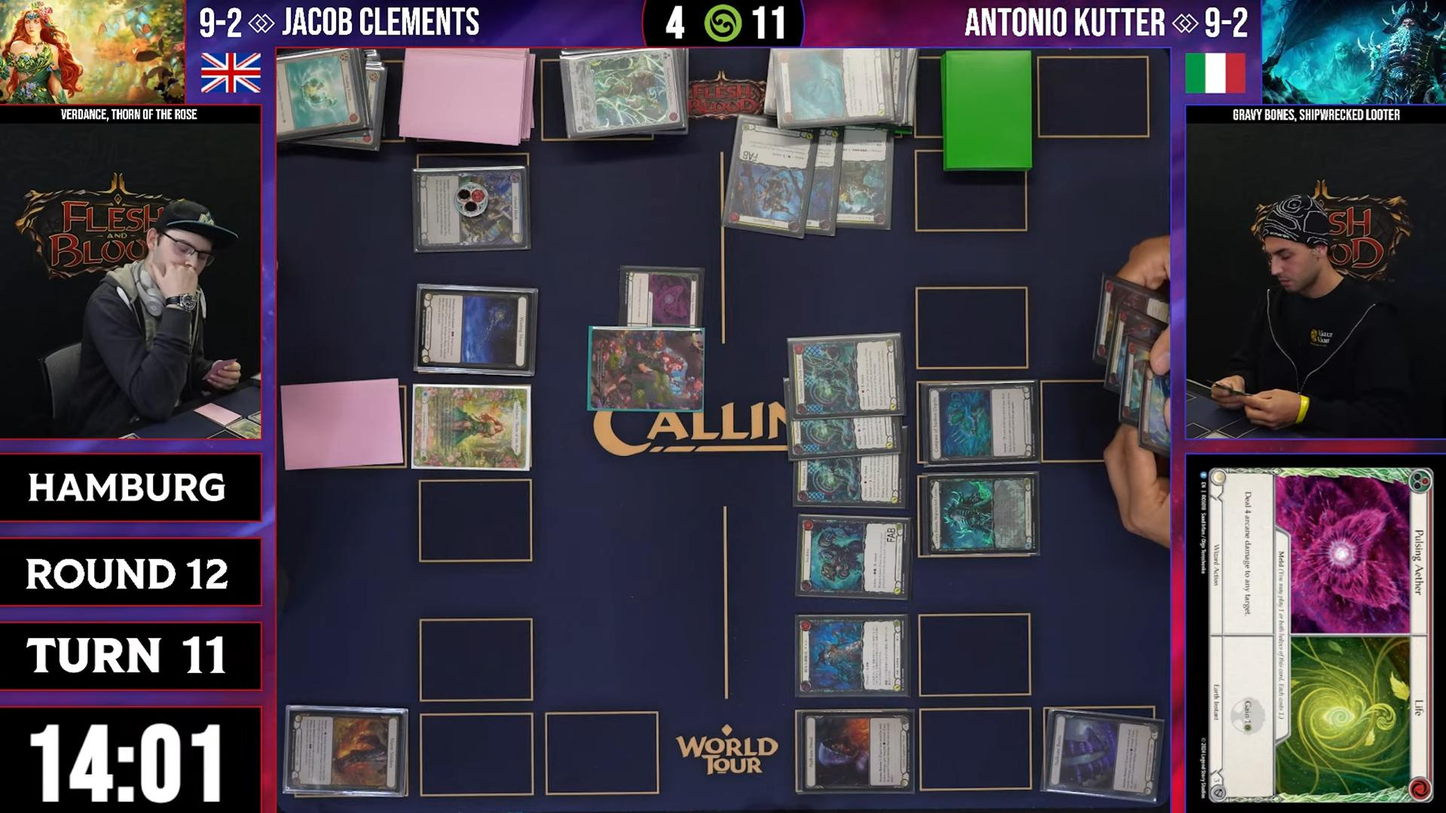Card: (1187, 457, 1444, 813), (720, 118, 822, 237), (283, 704, 412, 798), (557, 47, 684, 140), (414, 283, 539, 375), (1044, 709, 1165, 803), (411, 166, 530, 252), (788, 332, 905, 419), (924, 381, 1042, 466), (766, 46, 897, 122), (794, 514, 911, 599), (783, 378, 902, 460), (590, 326, 705, 410), (277, 48, 367, 144), (1090, 273, 1169, 360), (835, 124, 895, 229), (1100, 305, 1168, 397), (793, 456, 907, 509), (618, 265, 703, 327), (1115, 360, 1173, 450), (805, 124, 849, 234)
Ref: (412, 385, 529, 470), (794, 614, 909, 697), (926, 473, 1040, 556), (801, 710, 914, 793)
